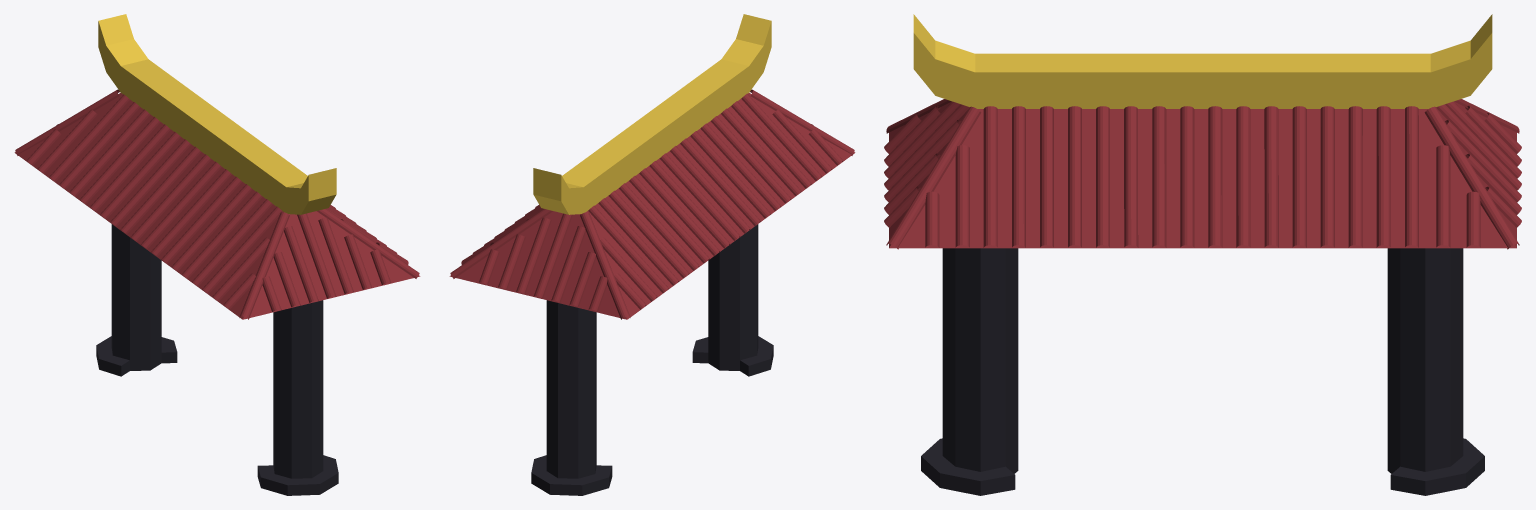
File: EstructuraPuerta.glb
The picture shows the model from 3 angles, left to right: view 1: azimuth 30°, elevation 25°; view 2: azimuth 150°, elevation 25°; view 3: azimuth 270°, elevation 25°; orthographic projection. The views are drawn at different scales.
Parts seen in each view (by area): view 1: Cube; view 2: Cube; view 3: Cube.
Part boxes in pixels (box(x1,y1,x2,y2)): Cube: box(14, 14, 420, 495); Cube: box(449, 14, 855, 495); Cube: box(884, 14, 1521, 495).
Size of the model in its own units: 3.29 by 5.57 by 7.2.
